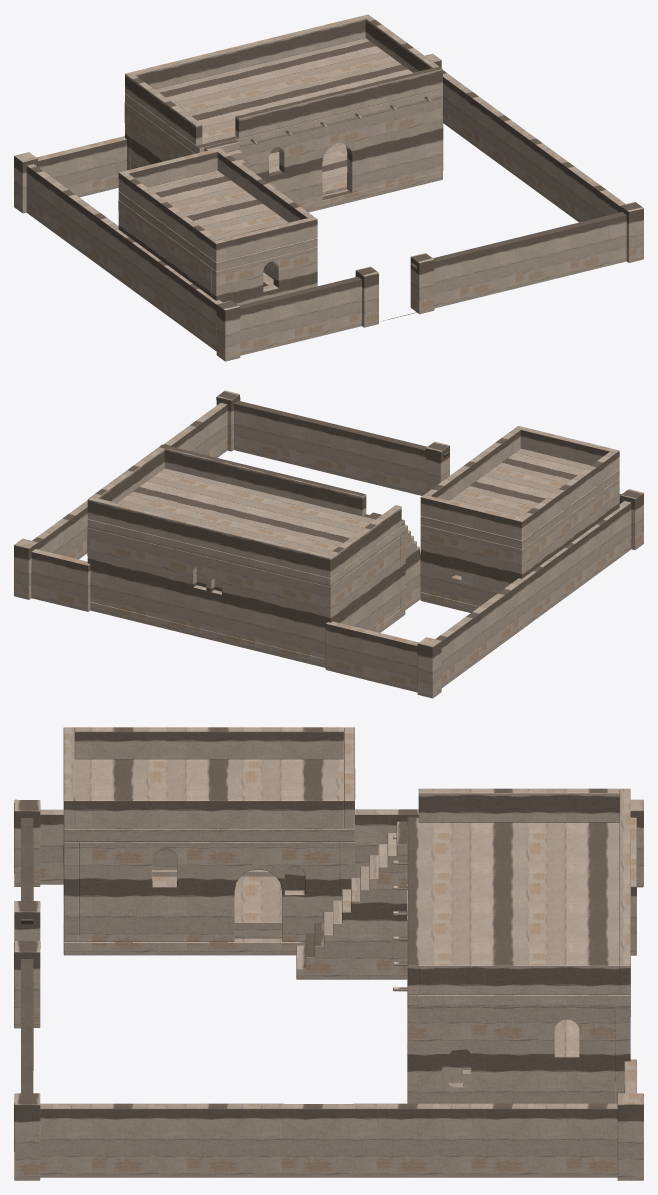
Rendered from court_3.glb.
3 views of the same model, one above another, from view 1: azimuth 30°, elevation 25°; view 2: azimuth 150°, elevation 25°; view 3: azimuth 270°, elevation 25° (orthographic). The views are drawn at different scales.
Parts seen in each view (by area): view 1: court; view 2: court; view 3: court.
Part boxes in pixels (box(x1,y1,x2,y2)): court: box(14, 14, 643, 361); court: box(14, 390, 643, 698); court: box(14, 727, 643, 1180).
Bounding box in the file's own units: 19.76 × 5.01 × 17.26.
1 material, 1 textured.
